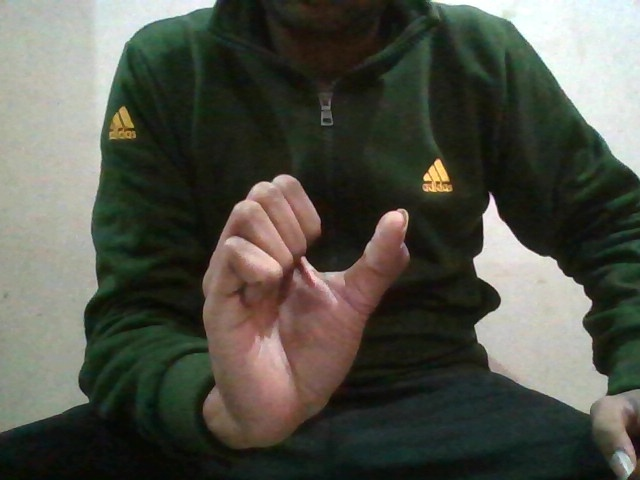S: (189, 165, 419, 418)
